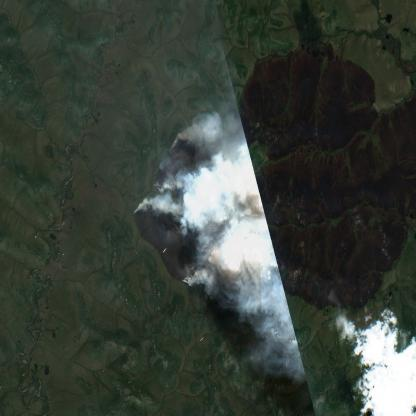fire: (134, 124, 237, 288)
